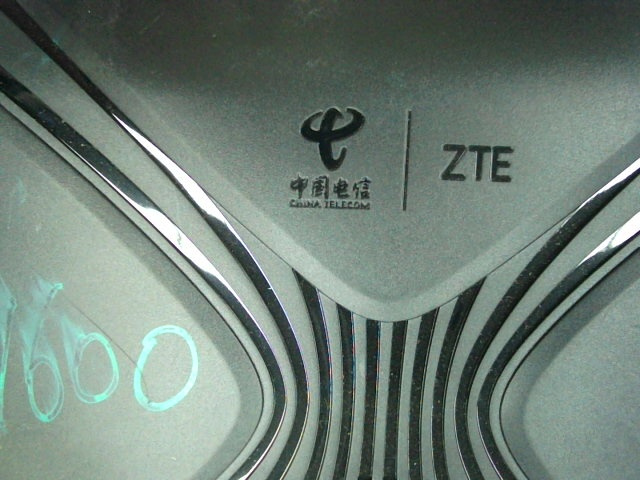AX_ZTEChinaTelecom: (266, 104, 516, 215)
